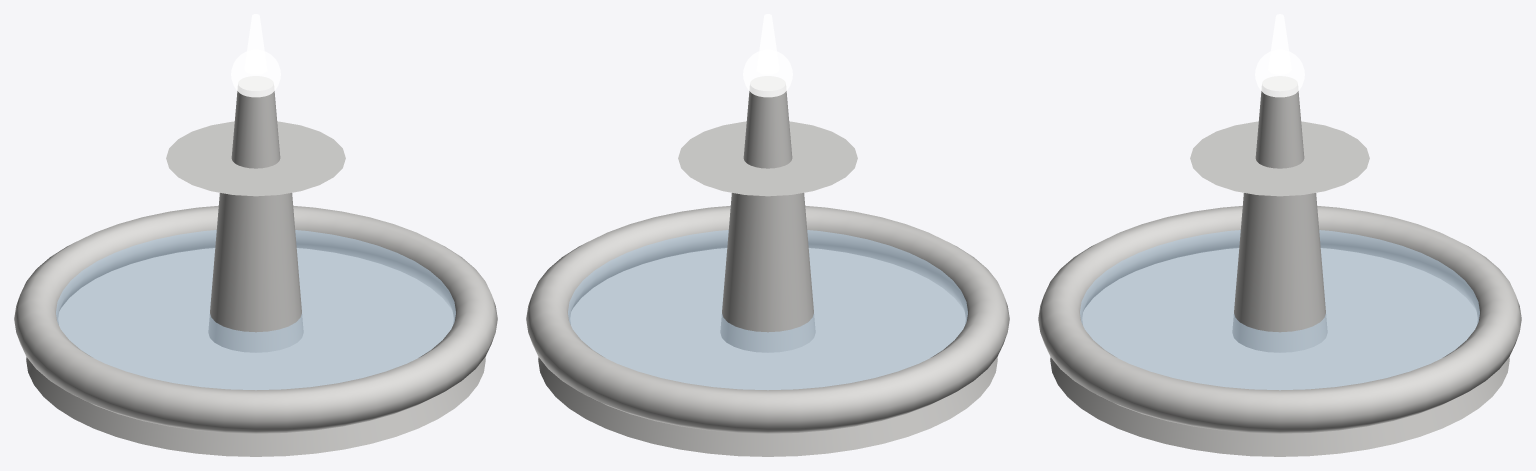
File: fountain.glb
3 views of the same model, side by side, from view 1: azimuth 30°, elevation 25°; view 2: azimuth 150°, elevation 25°; view 3: azimuth 270°, elevation 25° (orthographic).
Visible parts, largest first — view 1: basin, water, spout; view 2: basin, water, spout; view 3: basin, water, spout.
Boxes of the visible parts, x1,y1,x2,y2 form: basin: (14, 76, 497, 456); water: (56, 230, 455, 389); spout: (231, 14, 280, 97); basin: (526, 76, 1009, 456); water: (568, 230, 967, 389); spout: (743, 14, 792, 97); basin: (1038, 76, 1521, 456); water: (1080, 230, 1479, 390); spout: (1255, 14, 1304, 97).
Bounding box in the file's own units: 4.84 × 3.8 × 4.84.
